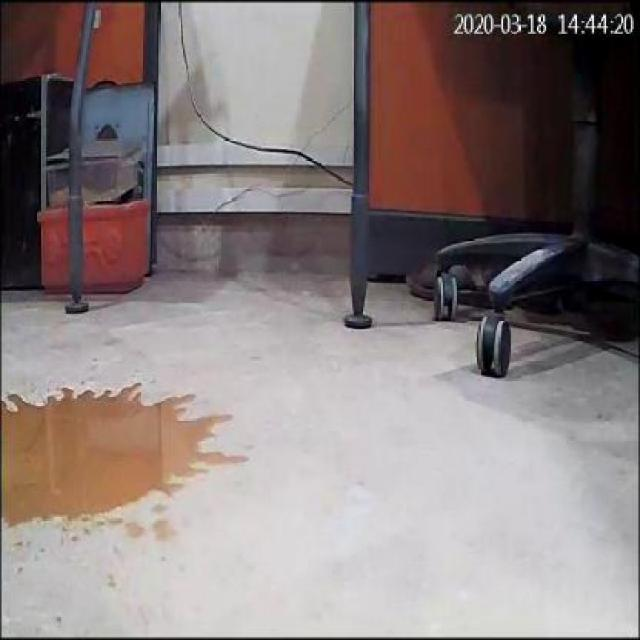spill: (0, 376, 248, 536)
